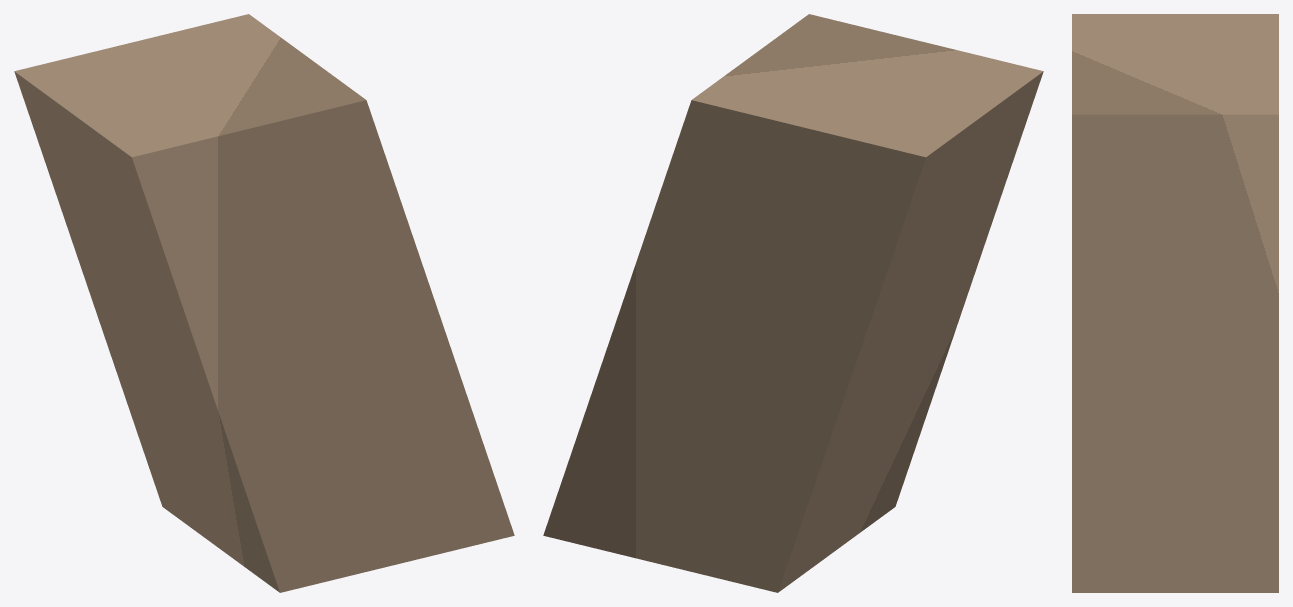
Rendered from grip_panels.glb.
3 views of the same model, side by side, from view 1: azimuth 30°, elevation 25°; view 2: azimuth 150°, elevation 25°; view 3: azimuth 270°, elevation 25° (orthographic). The views are drawn at different scales.
Bounding box in the file's own units: 0.062 × 0.073 × 0.033.
Materials: 1 (1 with a texture image).
